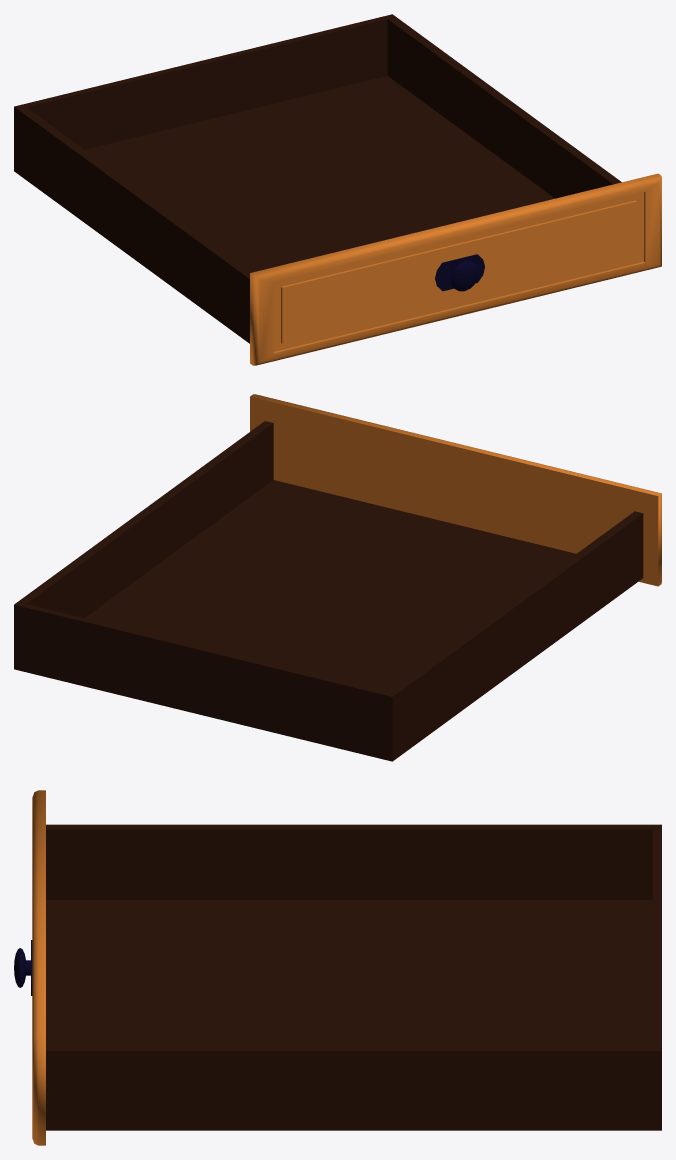
Rendered from GB_Tiroir.fbx.
3 views of the same model, one above another, from view 1: azimuth 30°, elevation 25°; view 2: azimuth 150°, elevation 25°; view 3: azimuth 270°, elevation 25° (orthographic). The views are drawn at different scales.
Visible parts, largest first — view 1: Tiroir; view 2: Tiroir; view 3: Tiroir.
Part boxes in pixels (x1,y1,x2,y2): Tiroir: (14, 14, 661, 365); Tiroir: (14, 394, 661, 761); Tiroir: (14, 790, 661, 1145).
Bounding box in the file's own units: 0.6106 × 0.1292 × 0.6839.
